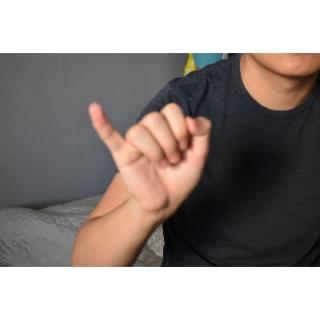MEEM: (86, 97, 215, 224)
